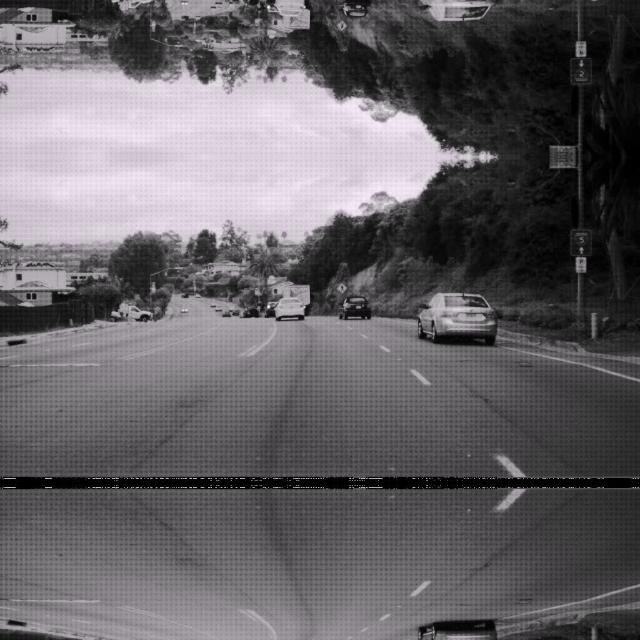pedestrianCrossing: (337, 280, 348, 292), (337, 20, 348, 32)
